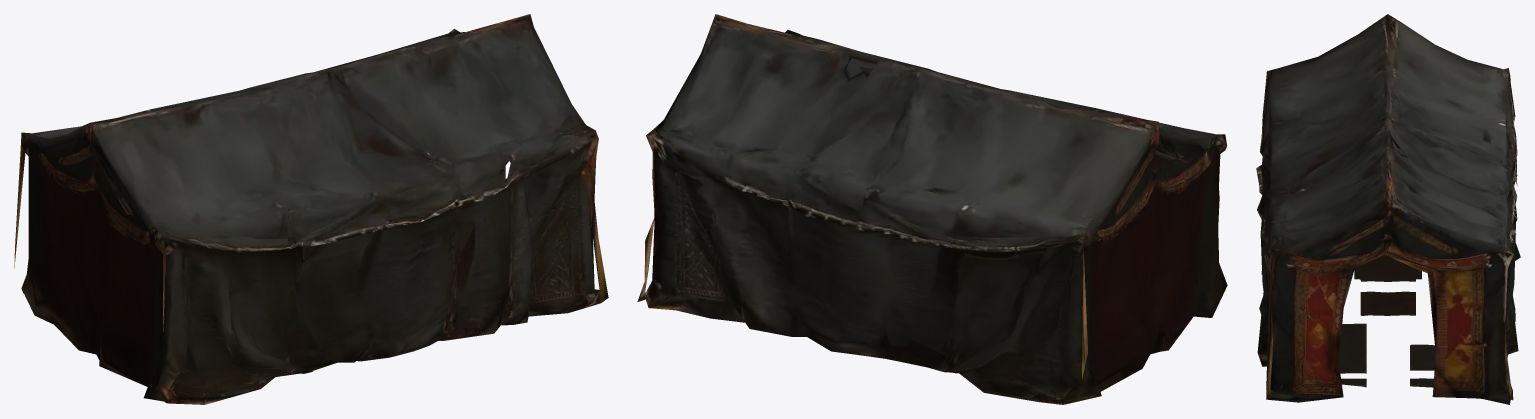
The model's file is tent.glb.
3 views of the same model, side by side, from view 1: azimuth 30°, elevation 25°; view 2: azimuth 150°, elevation 25°; view 3: azimuth 270°, elevation 25° (orthographic). The views are drawn at different scales.
Parts seen in each view (by area): view 1: tripo_node_6c3762ba-1b0c-404f-9149-04ef82802a62; view 2: tripo_node_6c3762ba-1b0c-404f-9149-04ef82802a62; view 3: tripo_node_6c3762ba-1b0c-404f-9149-04ef82802a62.
Part boxes in pixels (left/top/right/bottom): tripo_node_6c3762ba-1b0c-404f-9149-04ef82802a62: left=14, top=14, right=608, bottom=404; tripo_node_6c3762ba-1b0c-404f-9149-04ef82802a62: left=637, top=14, right=1227, bottom=404; tripo_node_6c3762ba-1b0c-404f-9149-04ef82802a62: left=1256, top=14, right=1520, bottom=404.
Size of the model in its own units: 1 by 0.5091 by 0.5936.
Materials: 1 (1 with a texture image).
